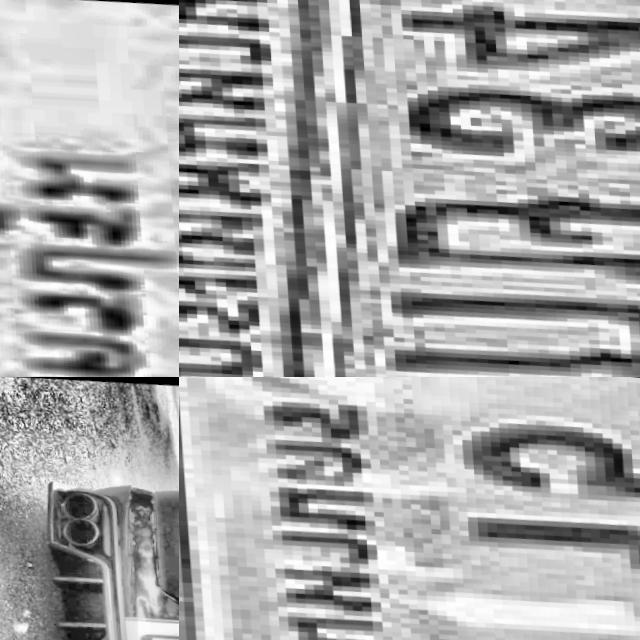license-plate: (179, 0, 640, 377), (179, 377, 640, 640), (0, 0, 179, 377)
